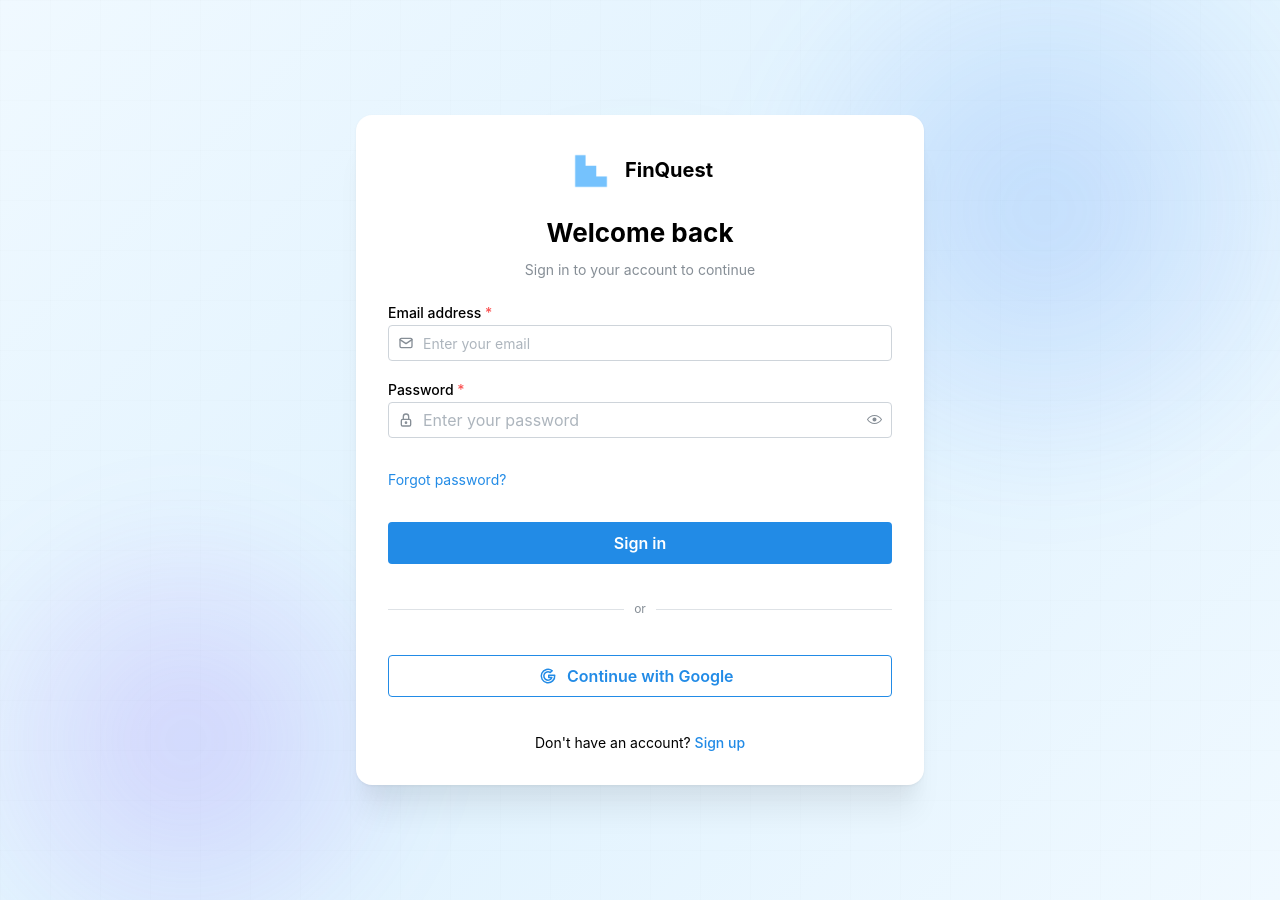
Login Page › displays error message when Google sign in fails
Click the button "Continue with Google" at (640, 676), box [388,655,892,697]
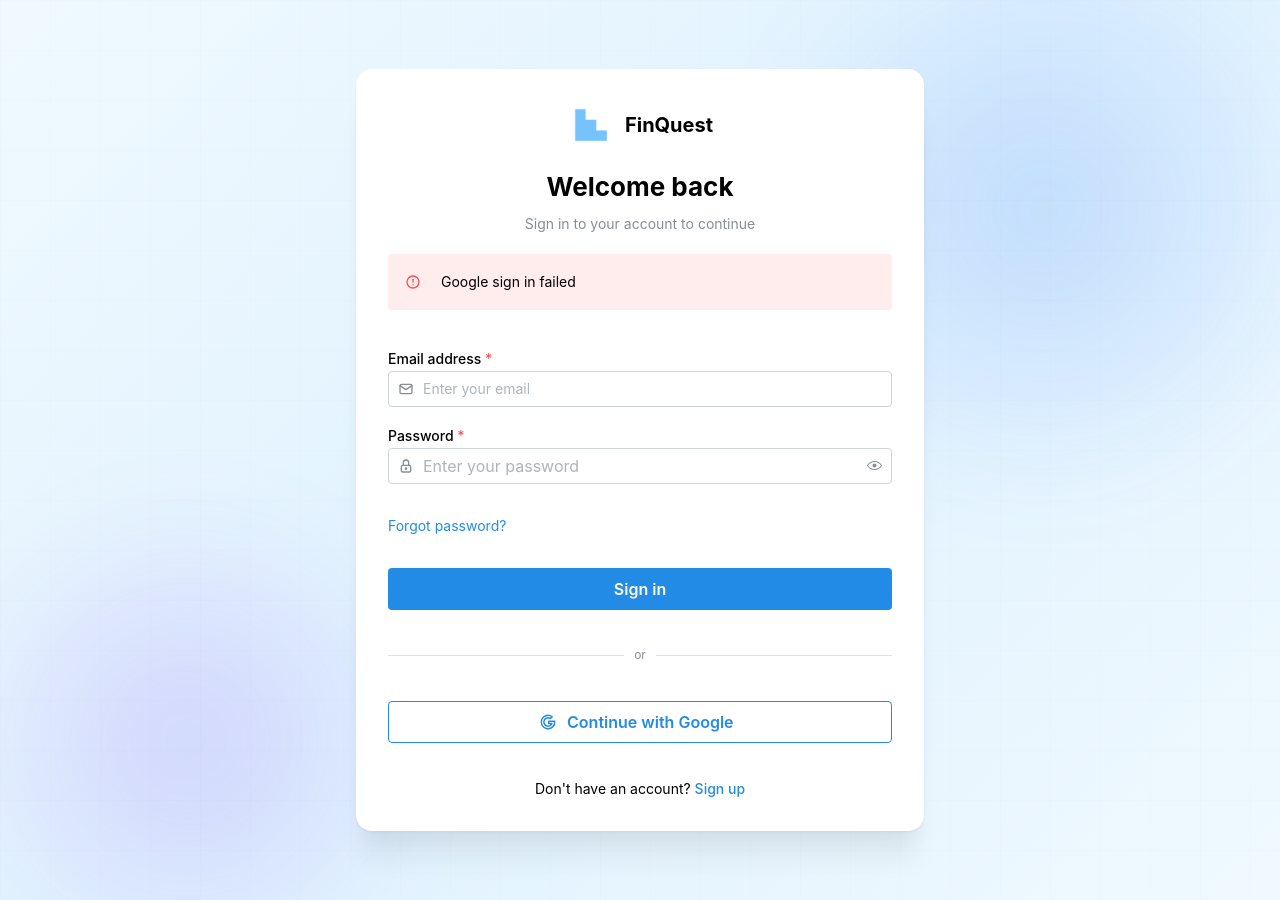
Now the text "Google sign in failed" is shown, box [441,274,576,290]
